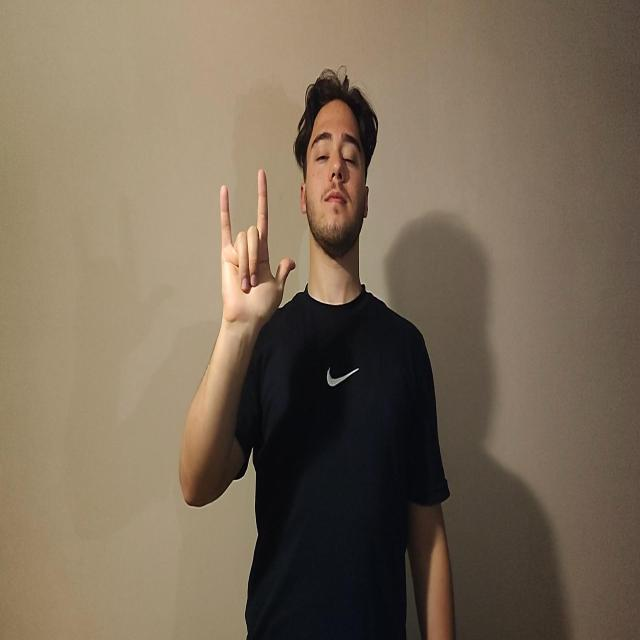iloveyou: (219, 167, 296, 331)
